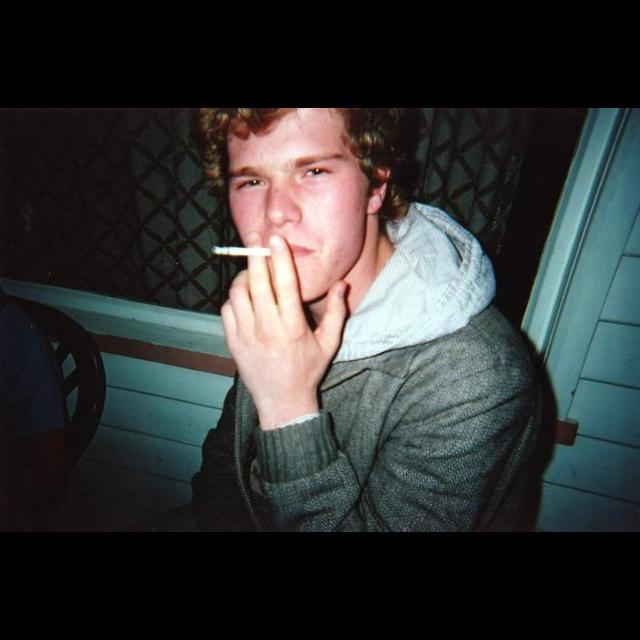rokok: (204, 240, 284, 268)
